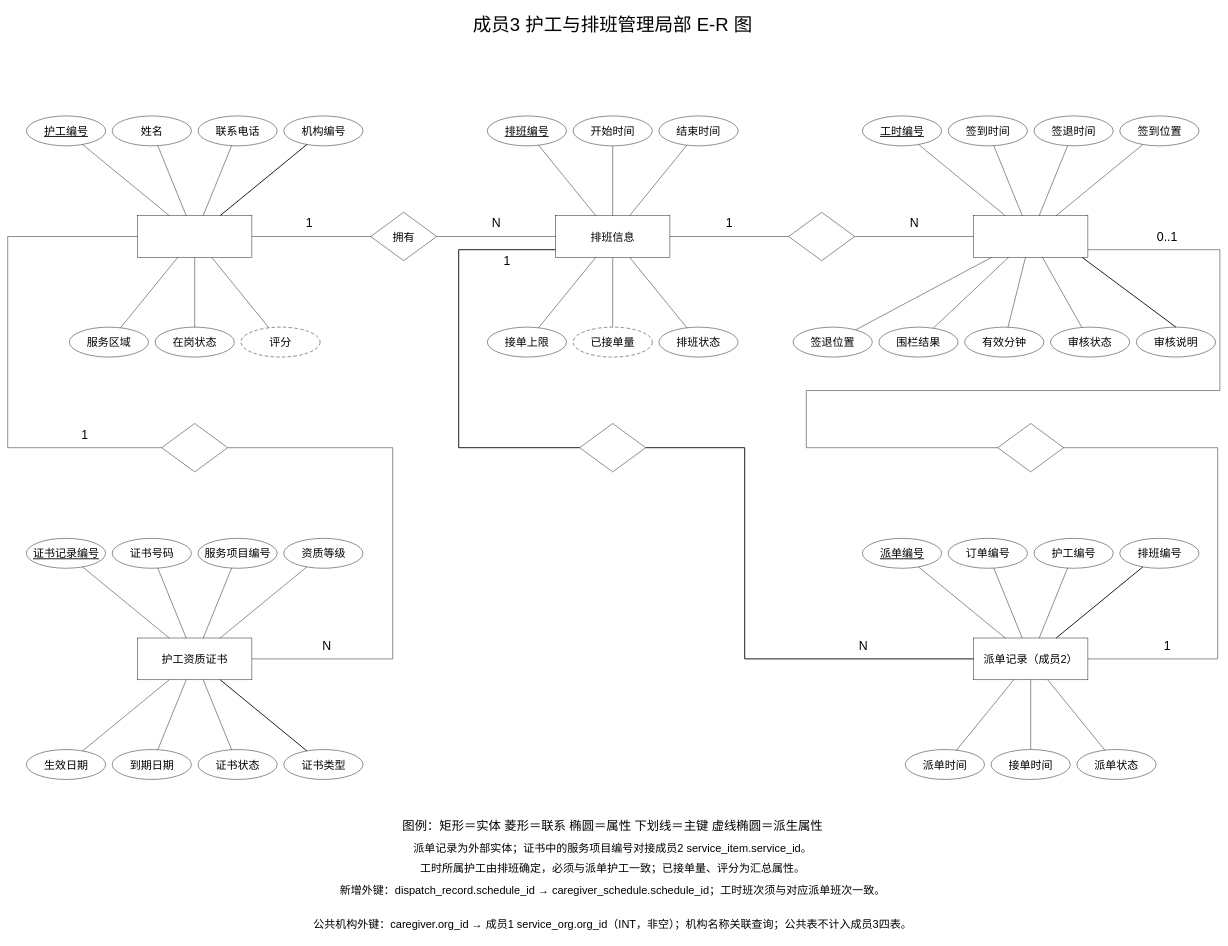
The diagram is 1228 pixels wide and 946 high, and some of its shapes have lost their labels. The centre of each missing label's shape, as x and y in pixels:
"分配" belongs at pixel 612 447.
"对应" belongs at pixel 821 236.
"工时记录" belongs at pixel 1030 236.
"形成" belongs at pixel 1030 447.
"护工档案" belongs at pixel 194 236.
"持有" belongs at pixel 194 447.
